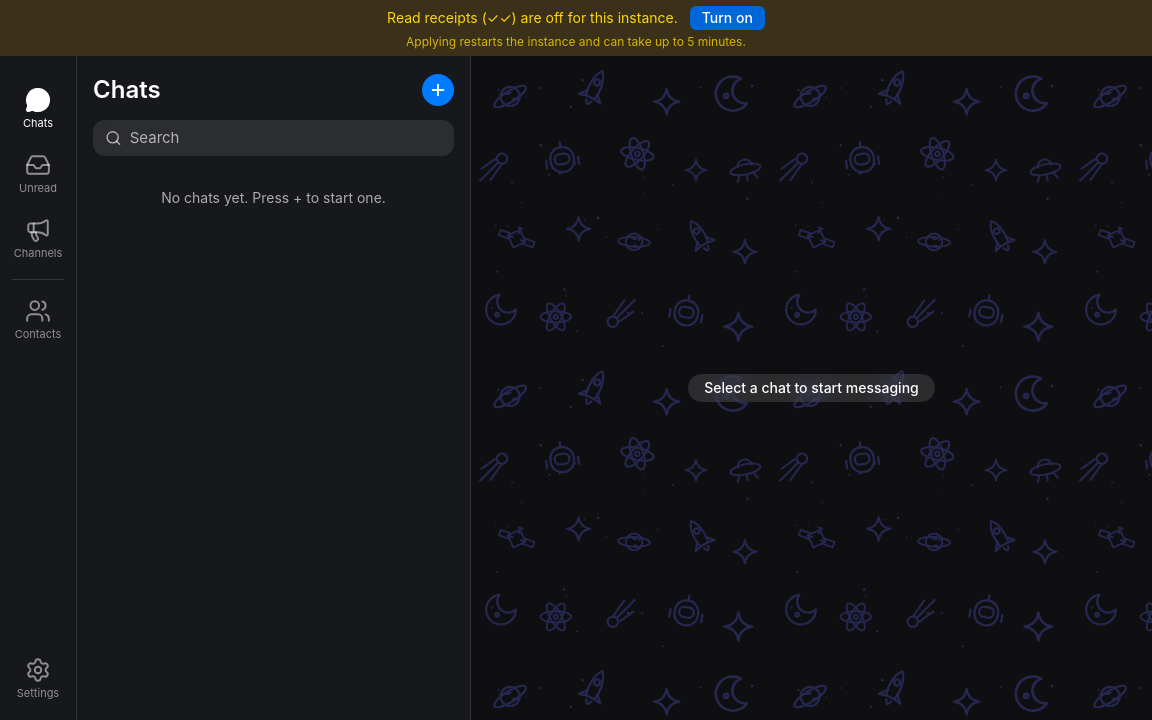
Test: search › matches by phone number digits and username without @
Type "90123" into the field named "Search chats" at (286, 138), box 130,127 -> 442,149
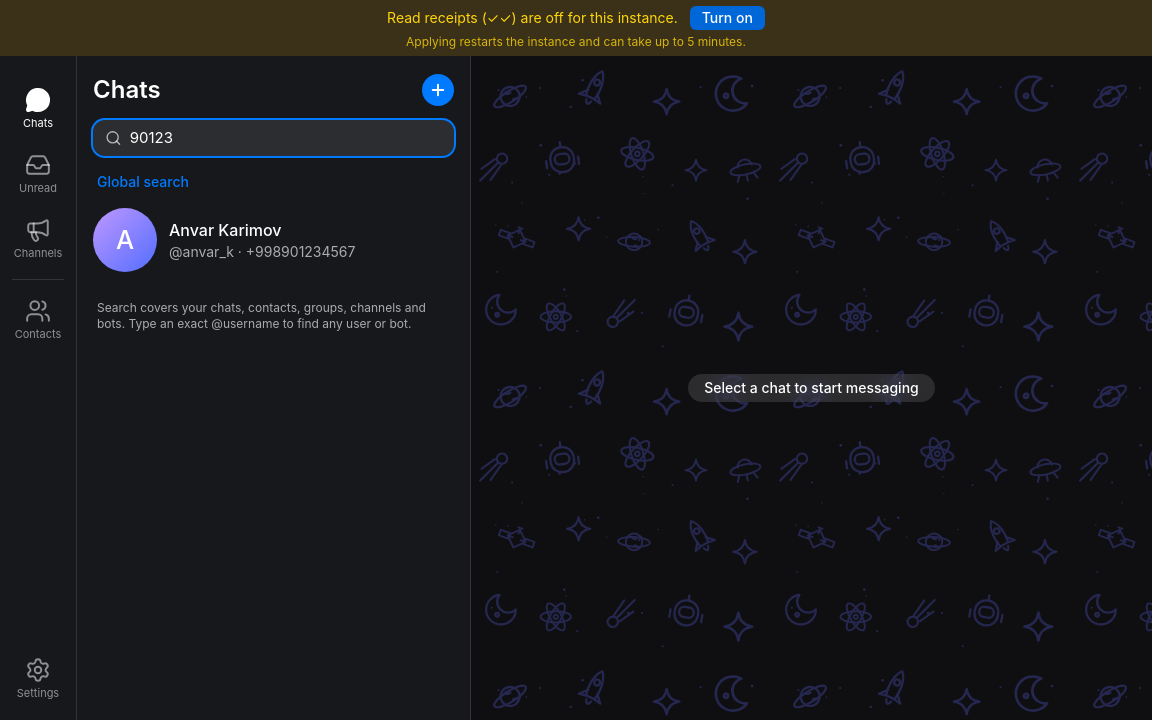
Expected: the text "Anvar Karimov" is shown, 169,220 -> 282,240
